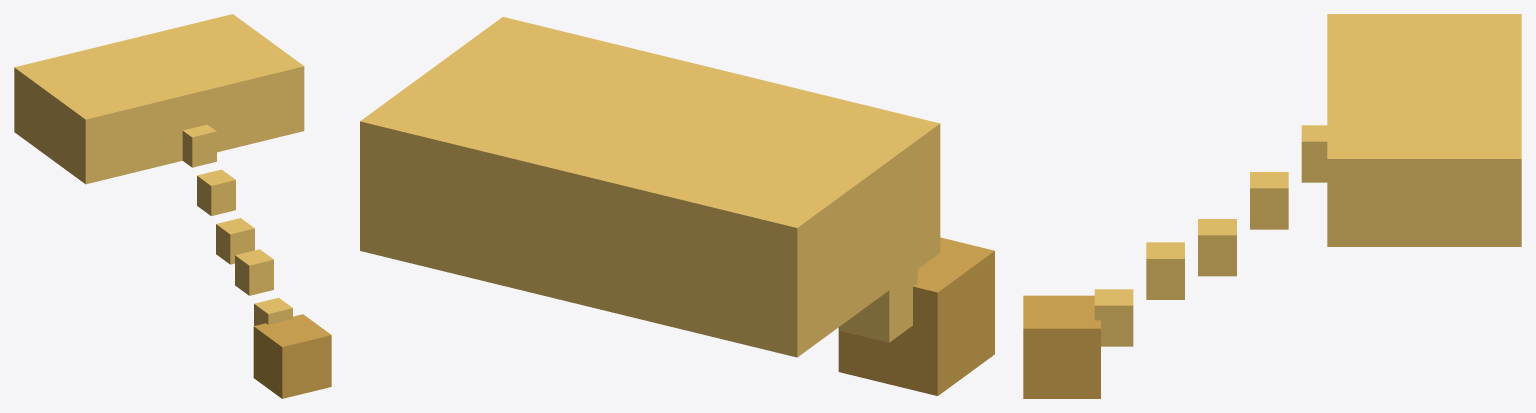
The model's file is leao_cintura.glb.
3 views of the same model, side by side, from view 1: azimuth 30°, elevation 25°; view 2: azimuth 150°, elevation 25°; view 3: azimuth 270°, elevation 25° (orthographic). The views are drawn at different scales.
Parts seen in each view (by area): view 1: leao_cintura; view 2: leao_cintura; view 3: leao_cintura.
Boxes of the visible parts, left/top/right/bottom form: leao_cintura: left=14, top=14, right=331, bottom=398; leao_cintura: left=360, top=17, right=994, bottom=395; leao_cintura: left=1023, top=14, right=1521, bottom=398.
Bounding box in the file's own units: 0.53 × 0.505 × 0.77.
